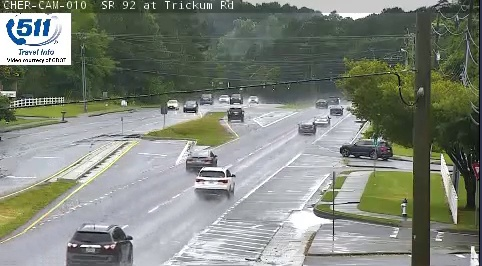car: (67, 223, 134, 266), (194, 166, 234, 196), (187, 150, 217, 171), (227, 107, 244, 122), (298, 122, 316, 135), (313, 114, 330, 127)
